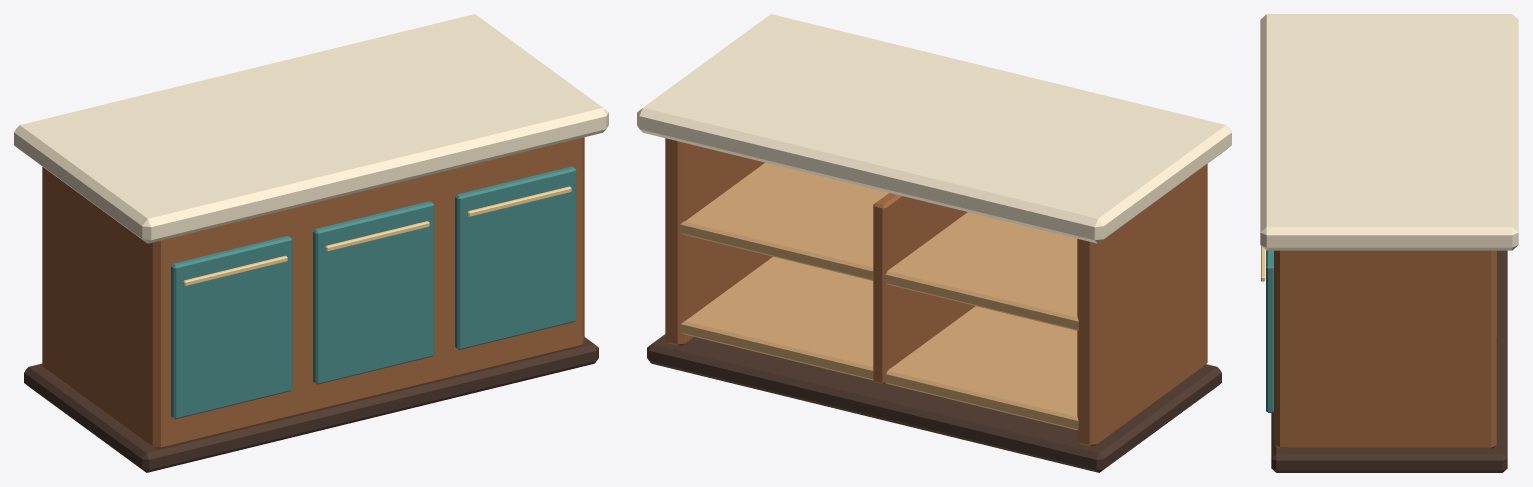
File: 01_Service_Counter.glb
The picture shows the model from 3 angles, left to right: view 1: azimuth 30°, elevation 25°; view 2: azimuth 150°, elevation 25°; view 3: azimuth 270°, elevation 25°; orthographic projection. The views are drawn at different scales.
Parts seen in each view (by area): view 1: 01_Service_Counter__Body; view 2: 01_Service_Counter__Body; view 3: 01_Service_Counter__Body.
Boxes of the visible parts, <box> form: 01_Service_Counter__Body: <box>14,14,608,472</box>; 01_Service_Counter__Body: <box>637,14,1231,472</box>; 01_Service_Counter__Body: <box>1260,14,1518,472</box>.
Bounding box in the file's own units: 4.7 × 2.49 × 2.35.
1 material, 1 textured.
